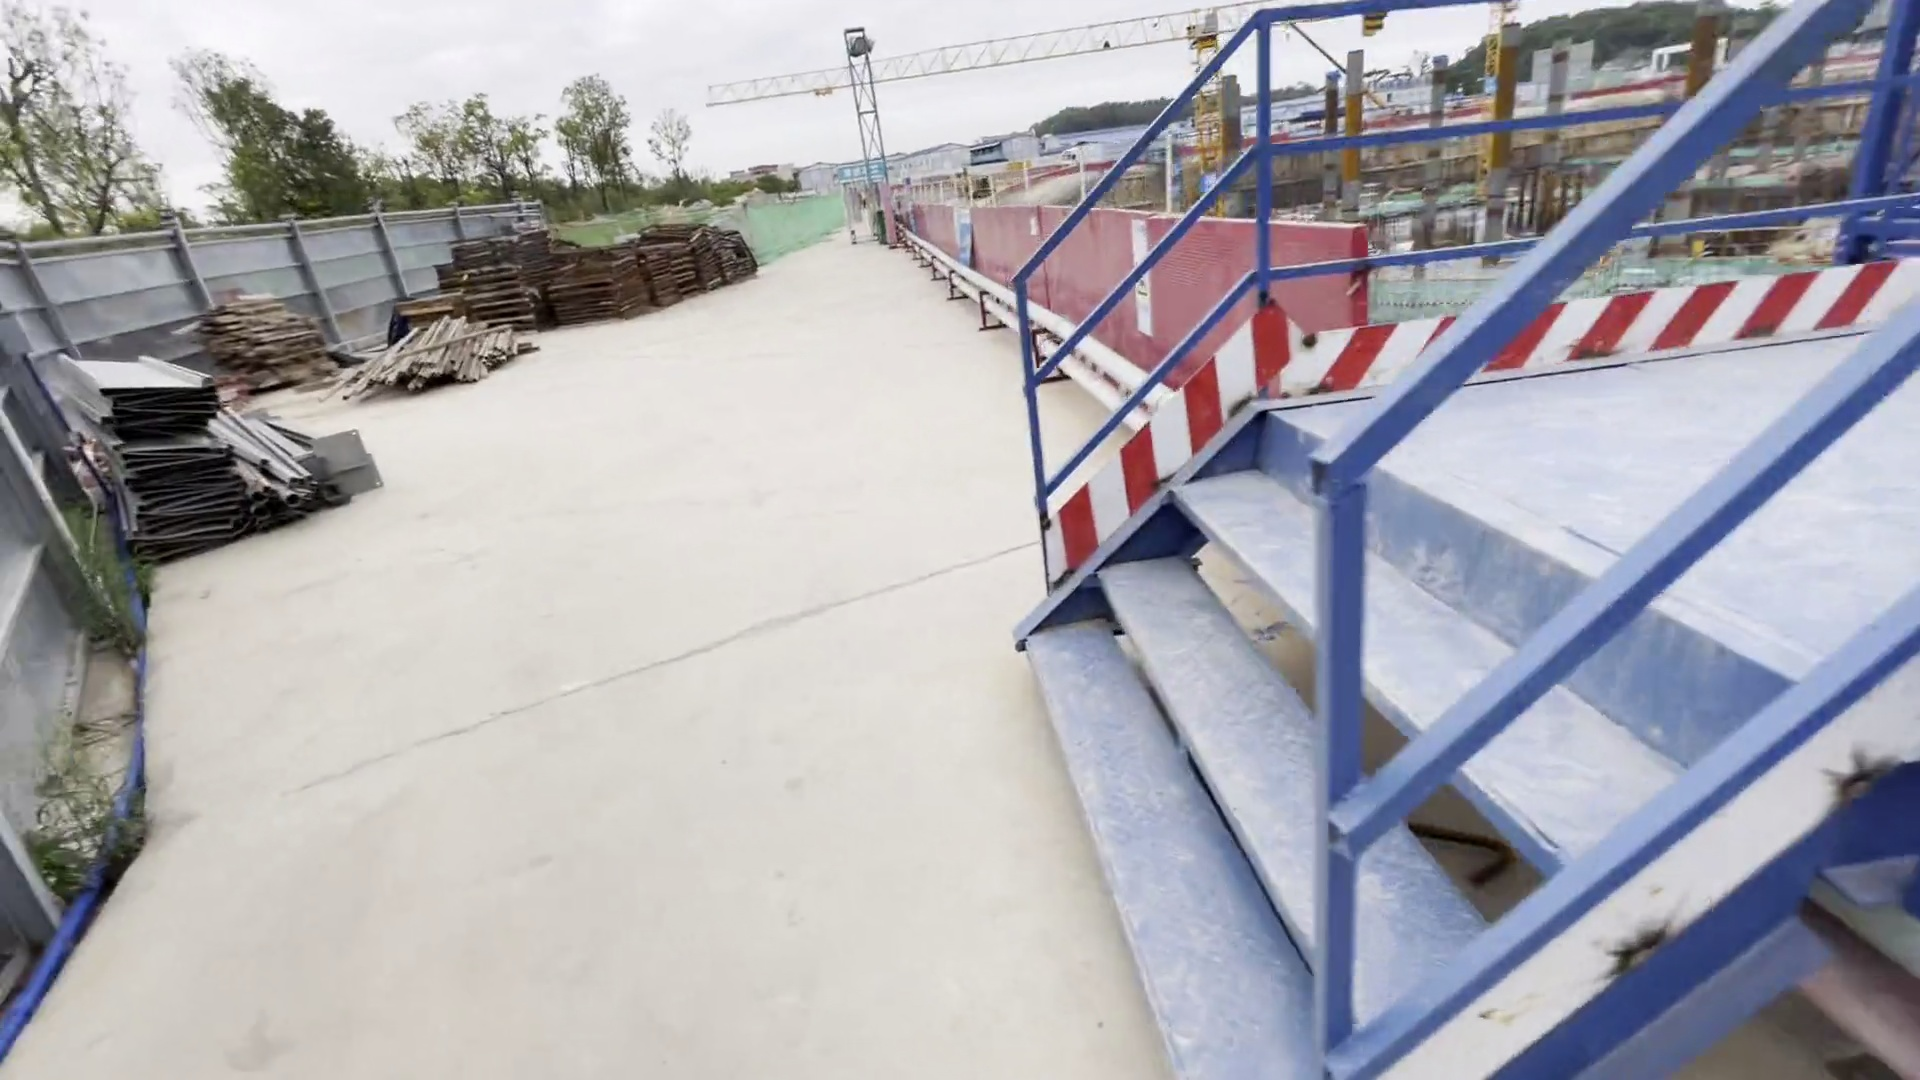fence: (884, 167, 1371, 386)
slogan: (1127, 214, 1162, 353), (945, 204, 981, 276), (837, 160, 886, 185), (1197, 167, 1220, 200)
wood: (208, 286, 338, 406), (336, 331, 541, 400)
